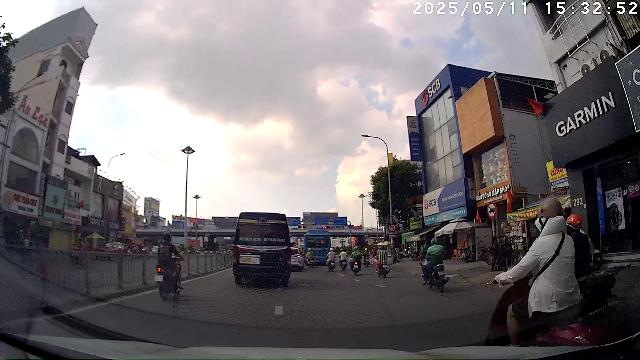123a-cam-re-trai: (388, 224, 396, 232)
